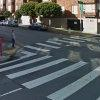Crosswalk: (24, 41, 90, 97)
